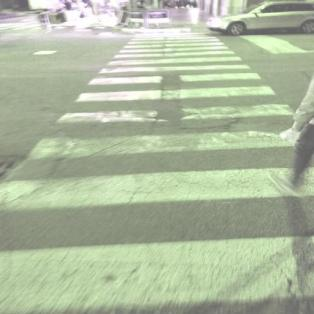Paso de Cebra: (0, 125, 313, 212), (68, 71, 282, 104)
